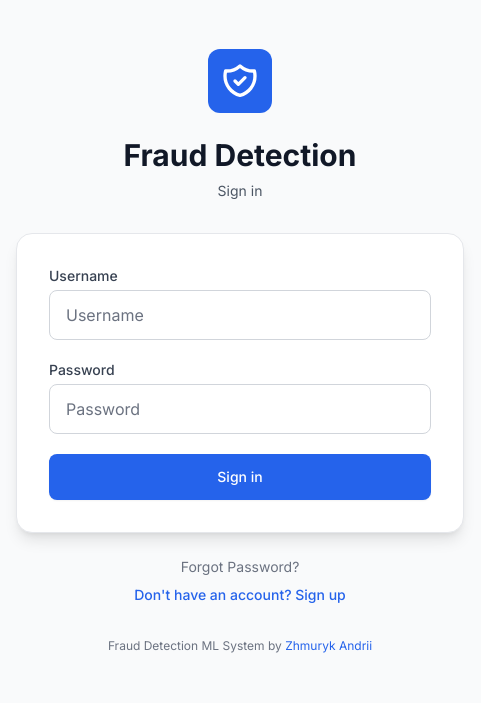
Test: Login Component › Input Validation › clears error when user types
Type "testuser" into the field labelled "Username".
click(240, 314); type("testuser")  # box left=49, top=290, right=431, bottom=340
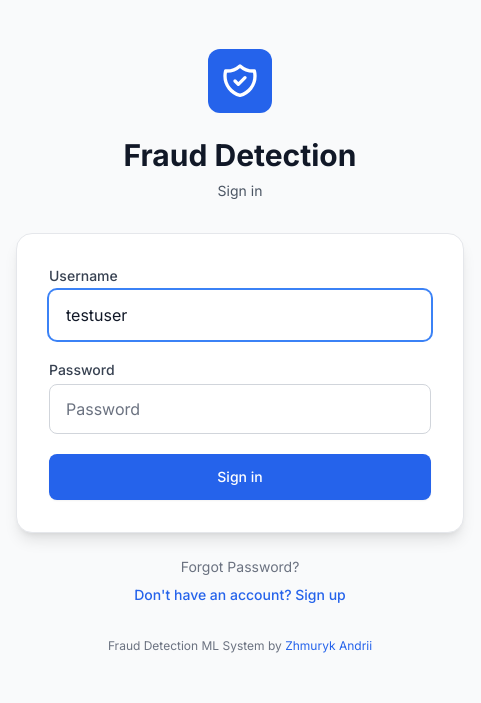
Type "wrong" into the password field labelled "Password".
click(240, 408); type("wrong")  # box left=49, top=384, right=431, bottom=434
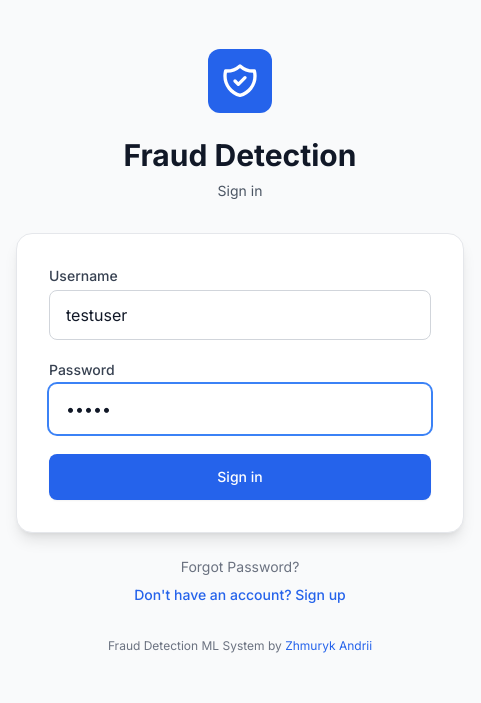
Click the button "Sign in".
click(240, 476)  # box left=49, top=454, right=431, bottom=500
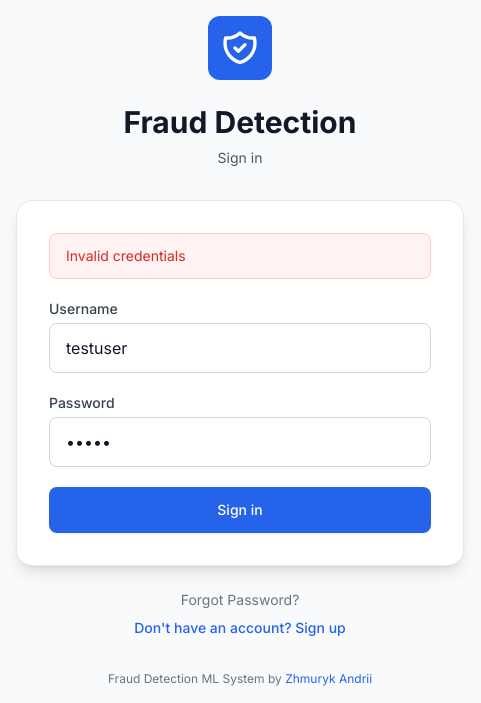
Now the text "Invalid credentials" is shown, box left=49, top=232, right=431, bottom=278
Type again to clear error
Type "a" into the field labelled "Username".
click(240, 348); type("a")  # box left=49, top=322, right=431, bottom=372
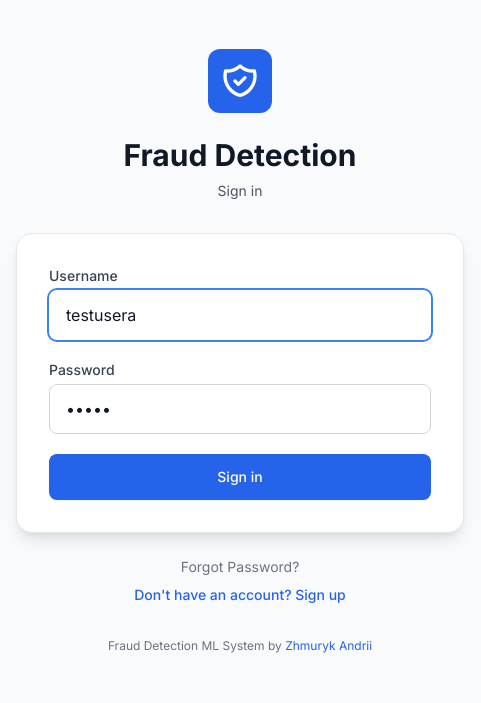
Now the text "Invalid credentials" is gone
